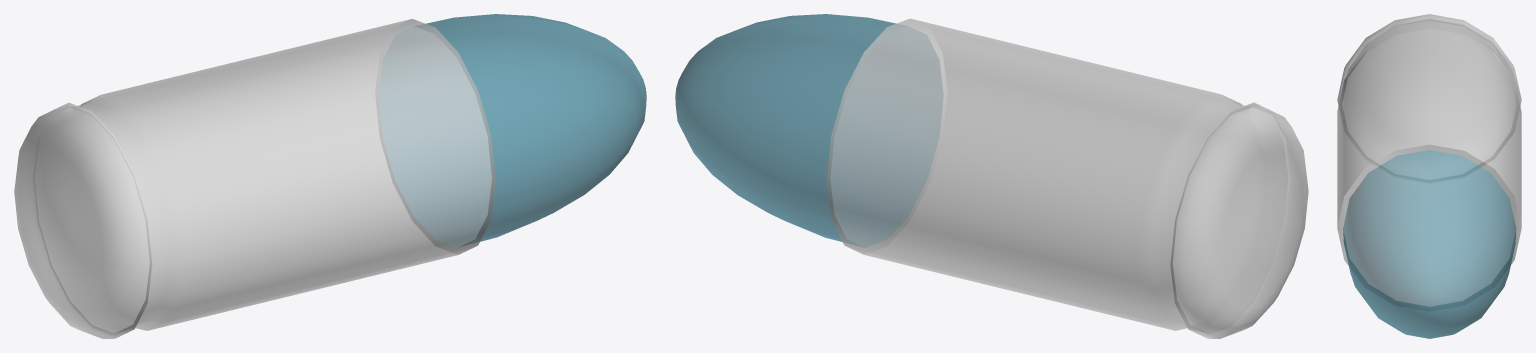
The model's file is bullet.fbx.
3 renders of one model, left to right at view 1: azimuth 30°, elevation 25°; view 2: azimuth 150°, elevation 25°; view 3: azimuth 270°, elevation 25°, orthographic. The views are drawn at different scales.
Visible parts, largest first — view 1: pCylinder2; view 2: pCylinder2; view 3: pCylinder2.
Part boxes in pixels (x1,y1,x2,y2): pCylinder2: (14,14,646,338); pCylinder2: (675,14,1308,338); pCylinder2: (1337,14,1521,338).
Size of the model in its own units: 5.63 by 2 by 2.
